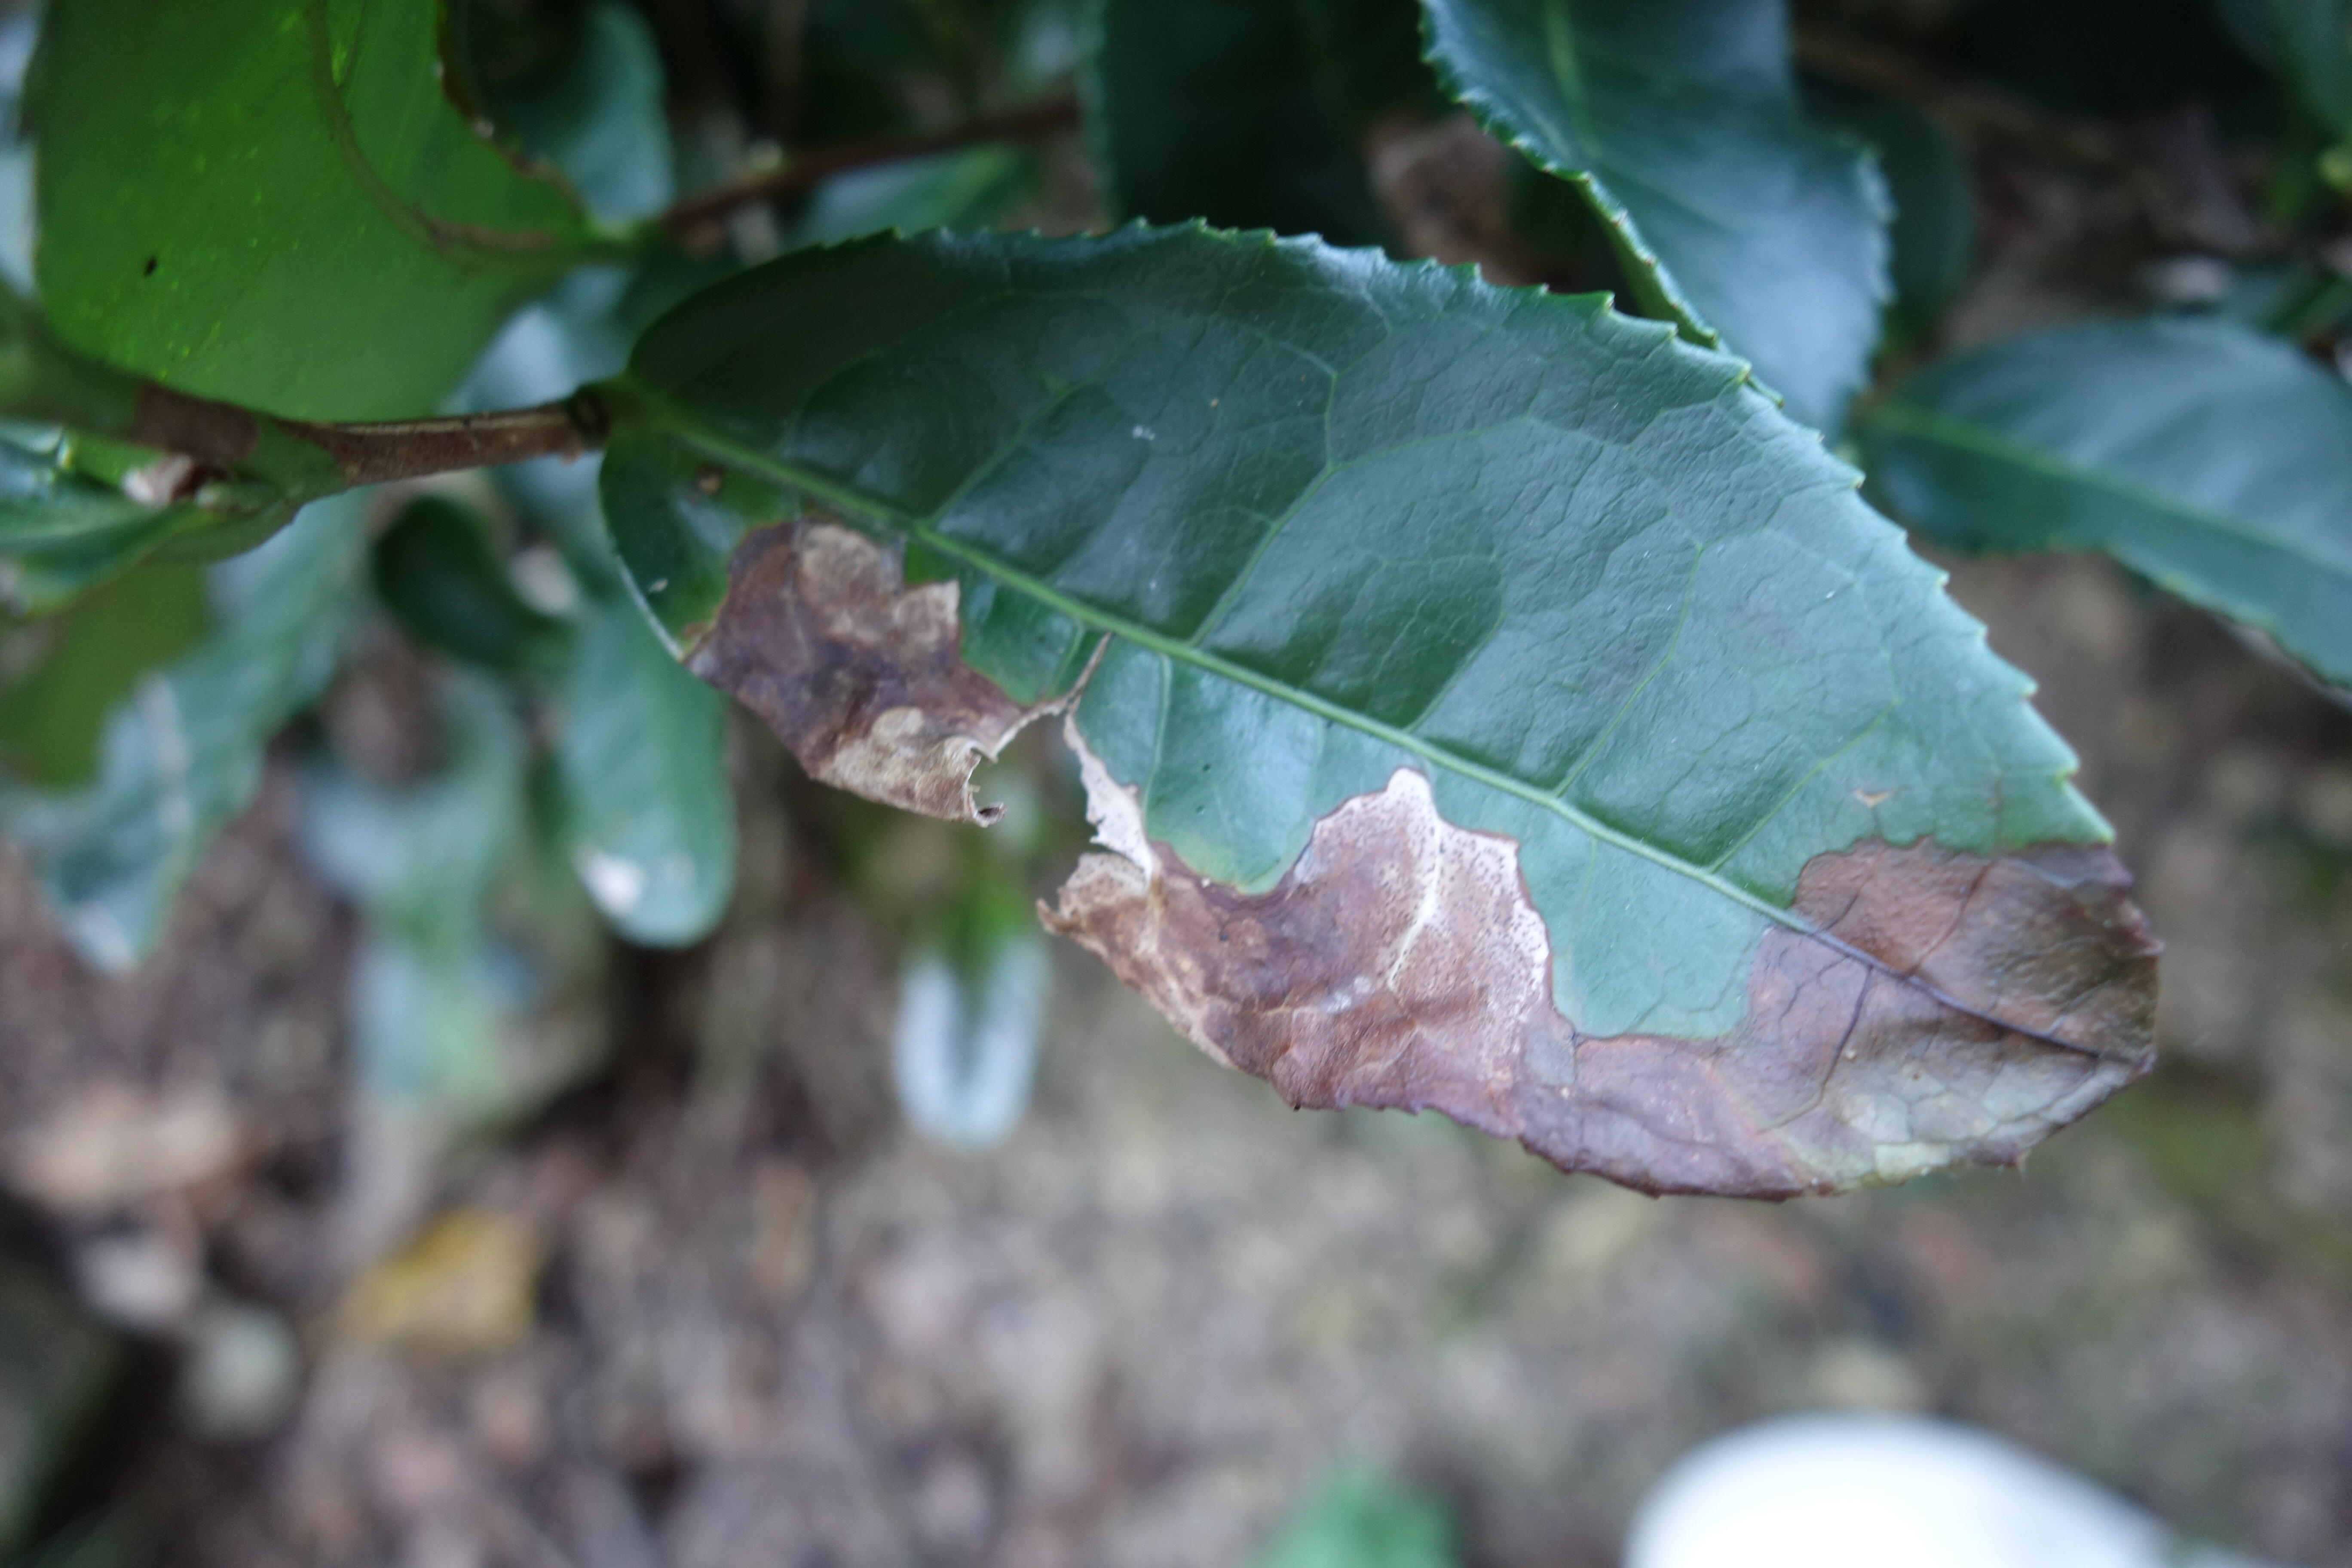tanju_high: (604, 213, 2161, 1202)
